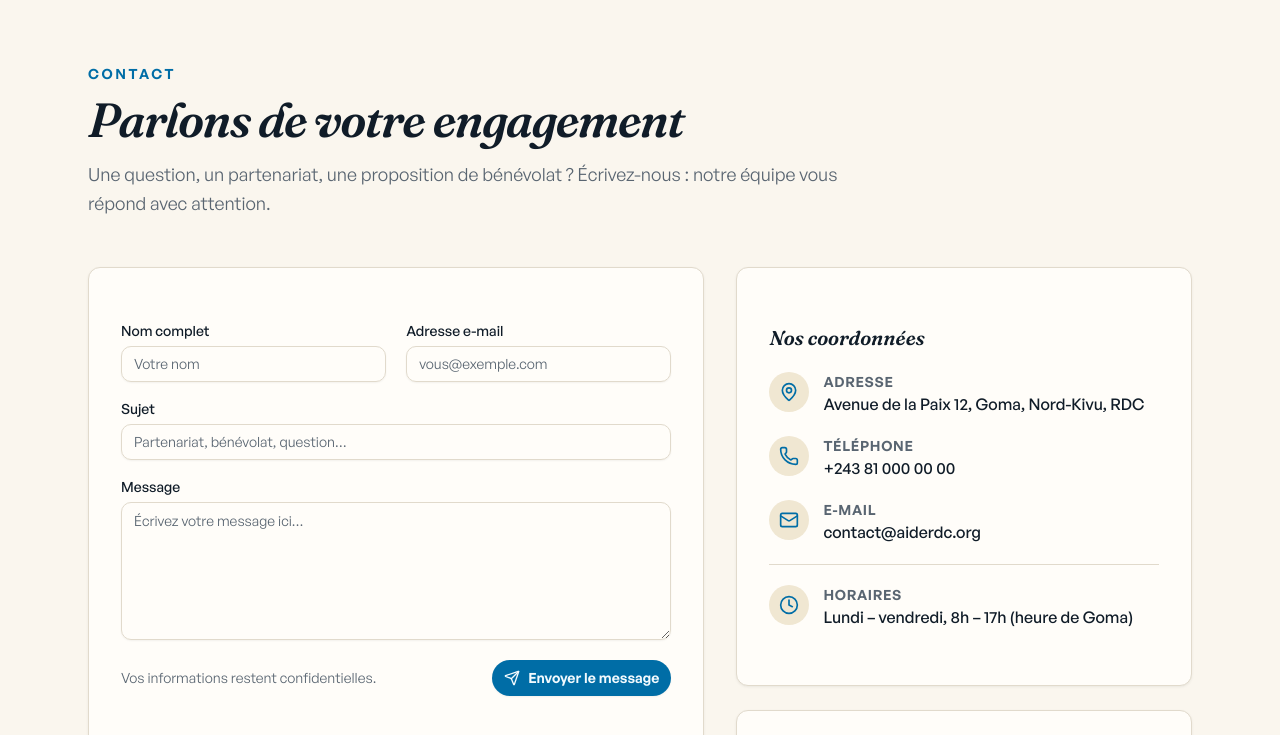
Test: ContactPage › submits a valid message and shows a confirmation
Type "Ada Lovelace" into the field with test id "contact.name_input".
click(254, 364); type("Ada Lovelace")  # box [121, 346, 386, 382]
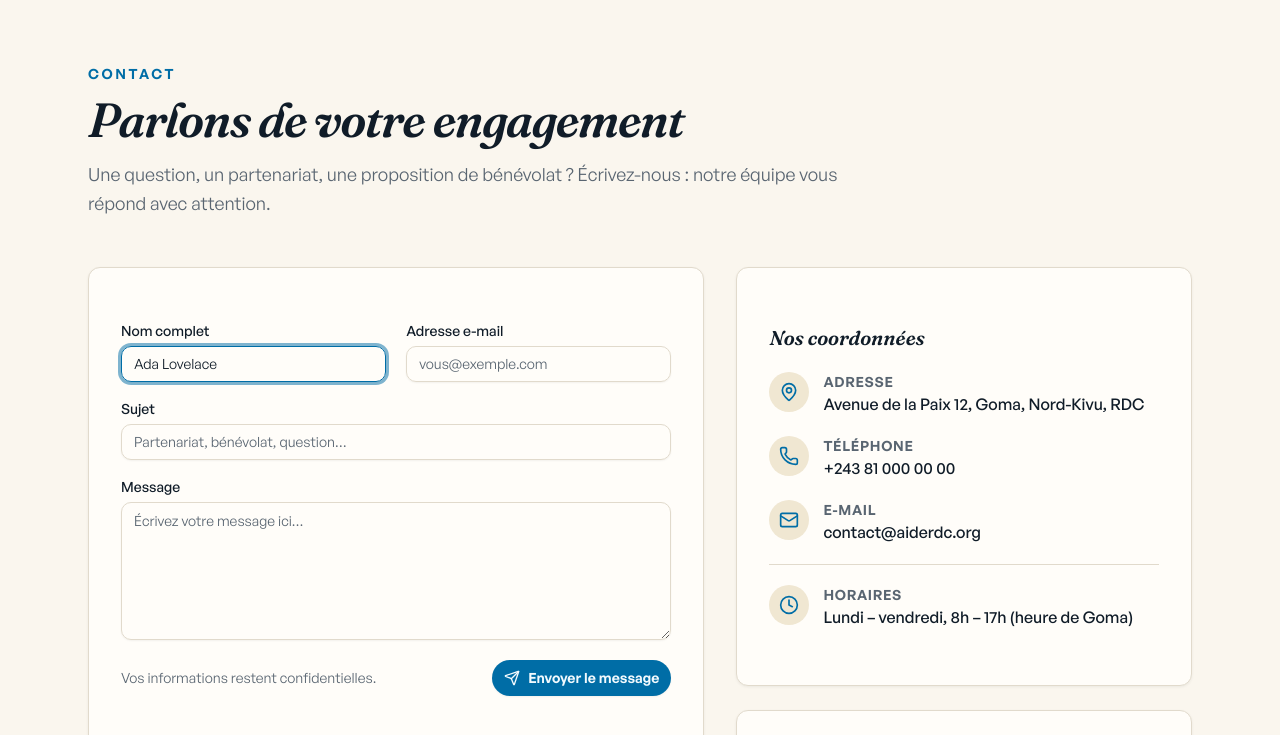
Type "ada@example.com" into the field with test id "contact.email_input".
click(539, 364); type("ada@example.com")  # box [406, 346, 671, 382]
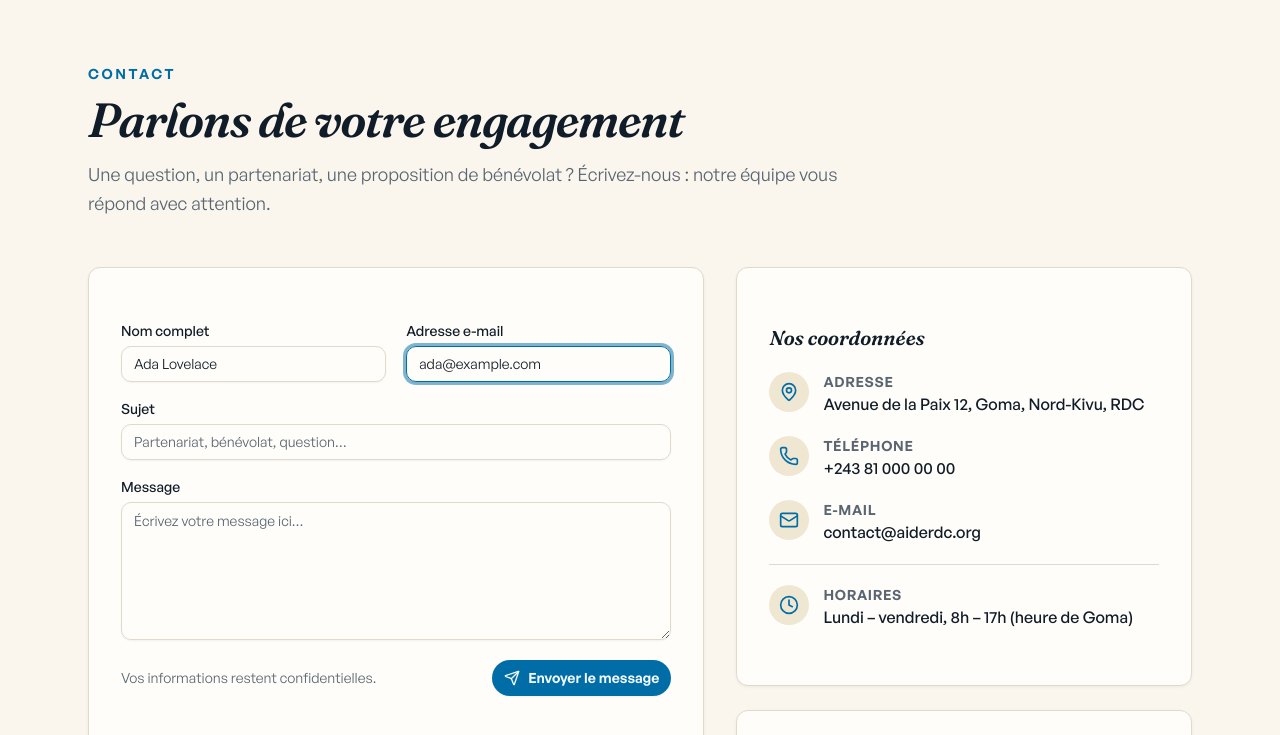
Type "Partenariat" into the field with test id "contact.subject_input".
click(396, 442); type("Partenariat")  # box [121, 424, 671, 460]
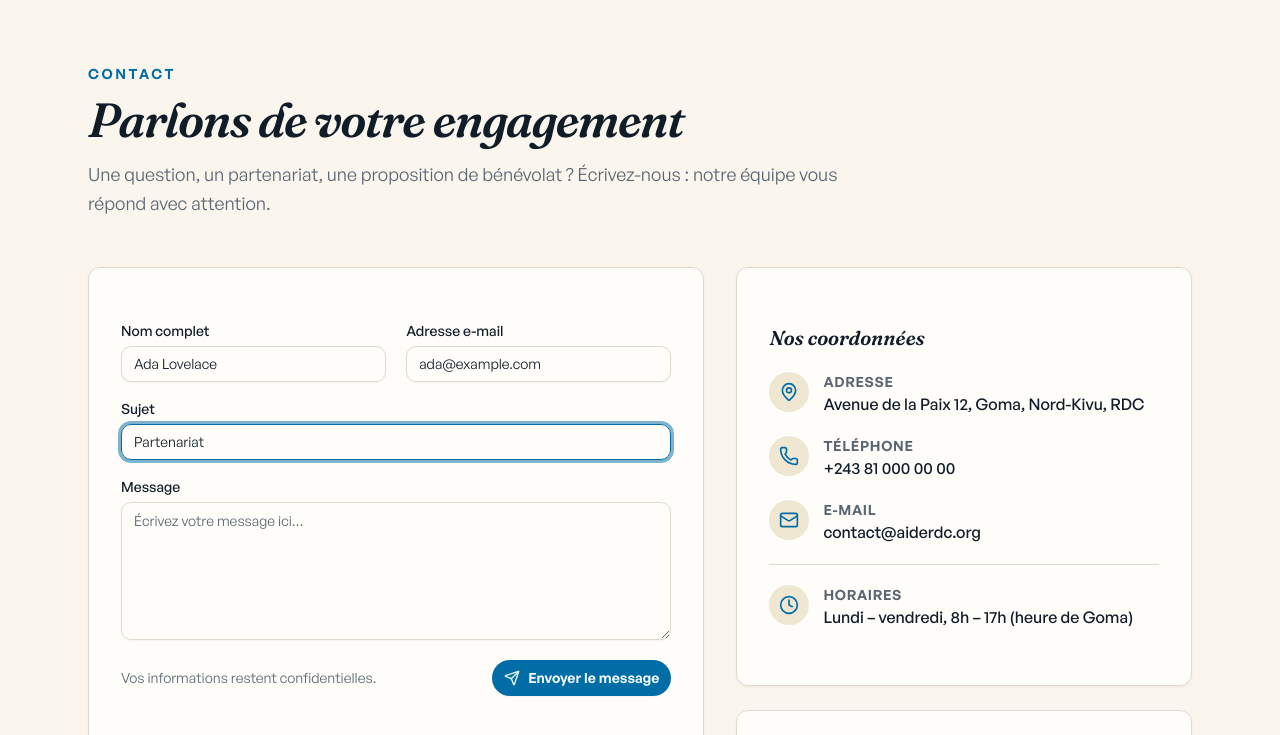
Type "Nous souhaitons soutenir vos actions." into the text box with test id "contact.message_textarea".
click(396, 570); type("Nous souhaitons soutenir vos actions.")  # box [121, 502, 671, 640]
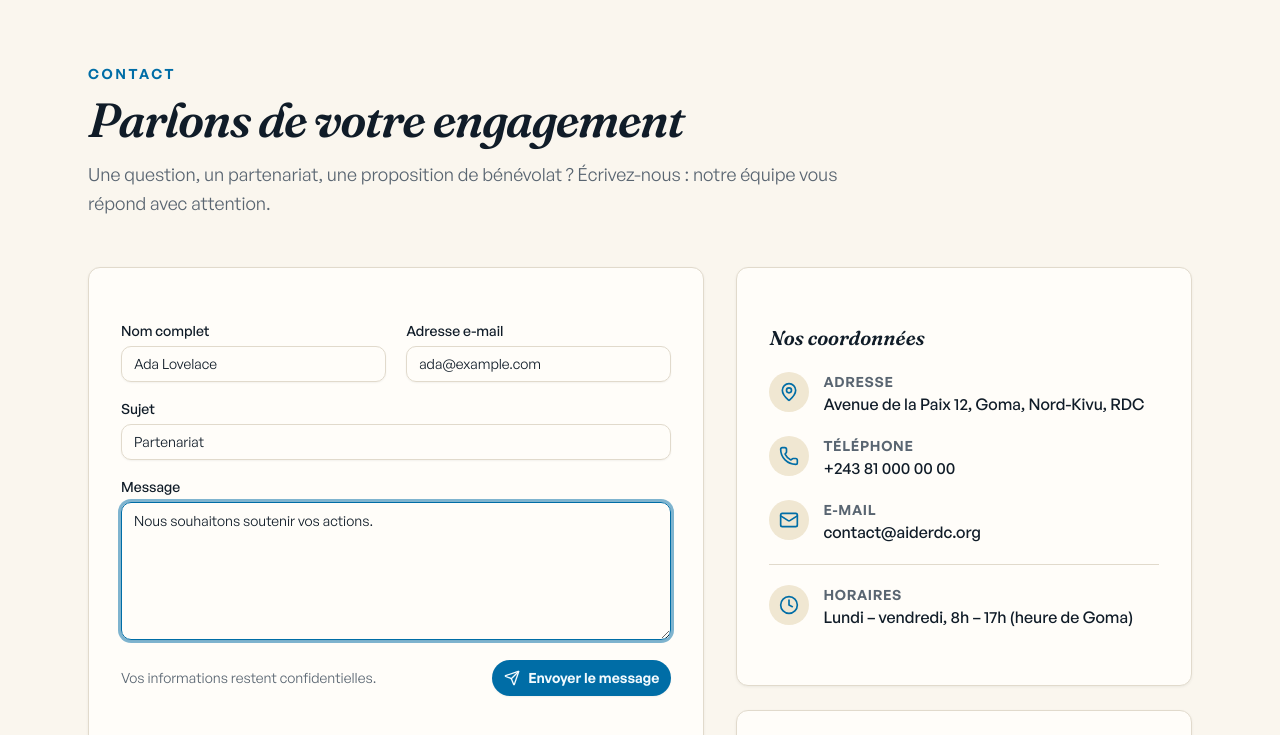
Click the button with test id "contact.submit_button".
click(582, 678)  # box [492, 660, 671, 696]
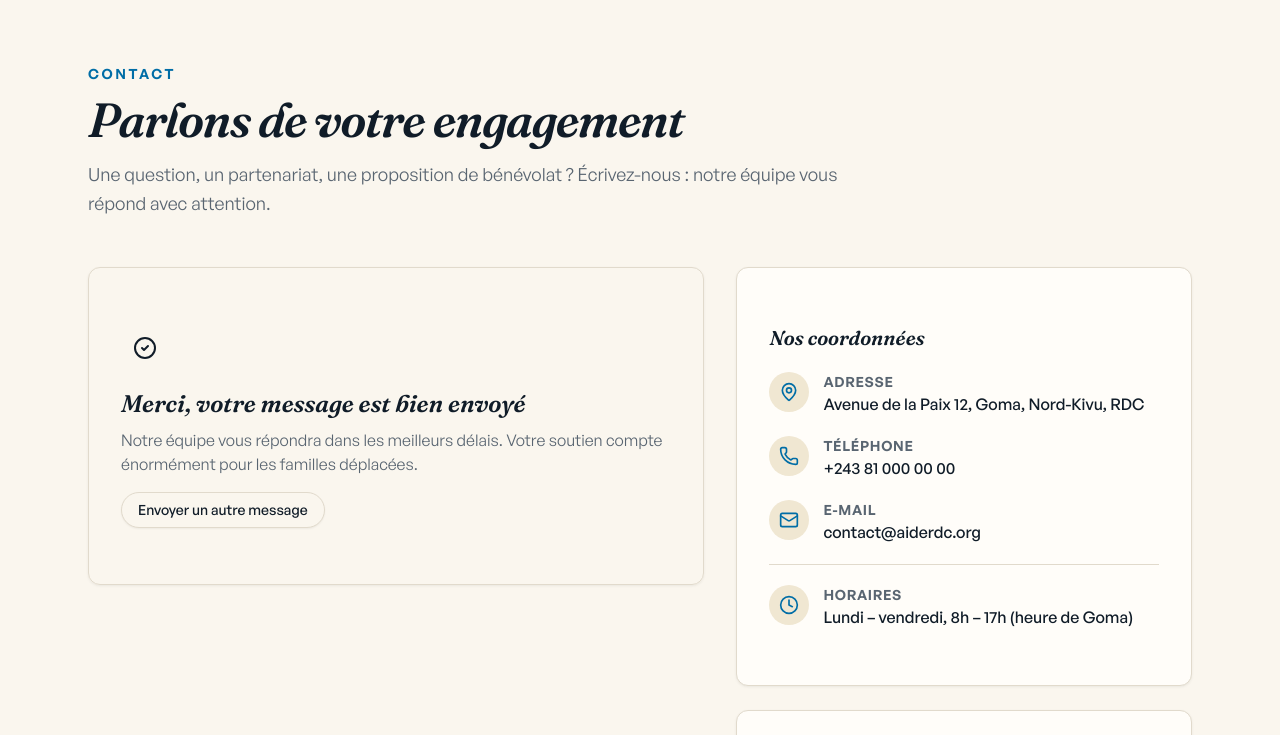
Now the element with test id "contact.success_state" is shown, box [88, 266, 704, 584]
